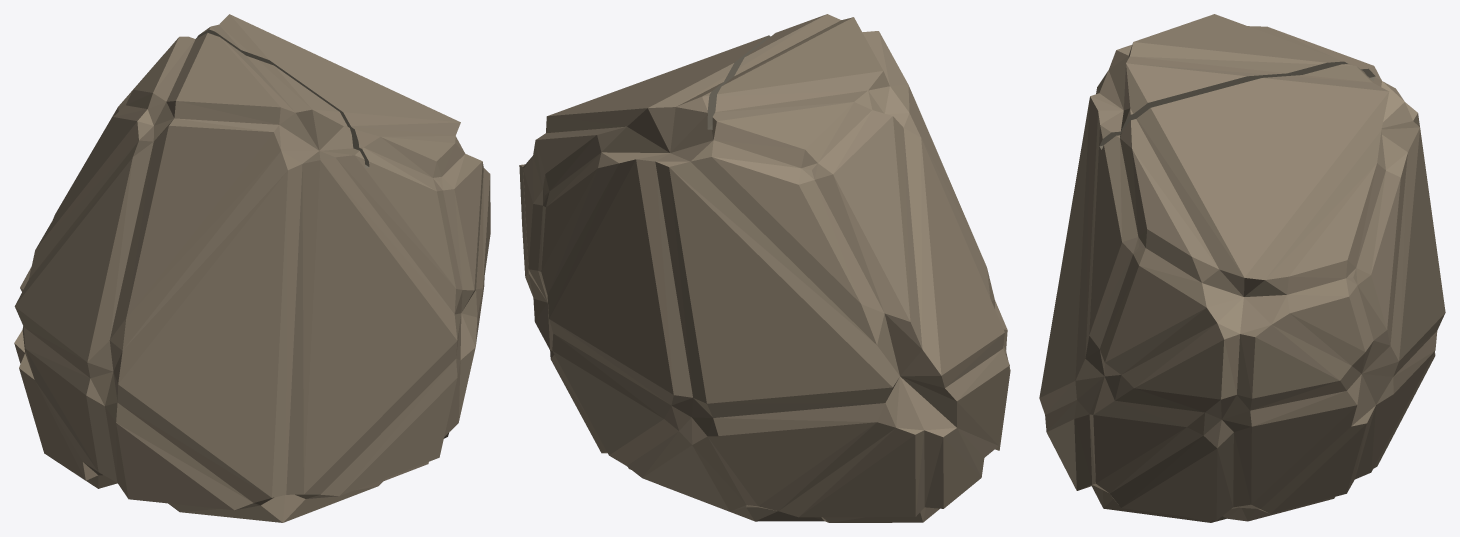
File: Granit_V2_0_LOD0.fbx
3 views of the same model, side by side, from view 1: azimuth 30°, elevation 25°; view 2: azimuth 150°, elevation 25°; view 3: azimuth 270°, elevation 25° (orthographic). The views are drawn at different scales.
Parts seen in each view (by area): view 1: Granit_V2_0; view 2: Granit_V2_0; view 3: Granit_V2_0.
Boxes of the visible parts, x1,y1,x2,y2 form: Granit_V2_0: [14, 14, 490, 522]; Granit_V2_0: [519, 14, 1010, 522]; Granit_V2_0: [1039, 14, 1445, 522].
Bounding box in the file's own units: 228 × 192 × 178.
